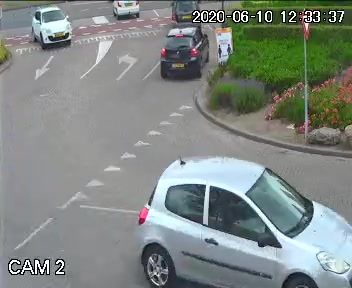car: (127, 149, 352, 288), (152, 27, 217, 87), (17, 7, 77, 52), (169, 0, 208, 22), (107, 0, 145, 22)
